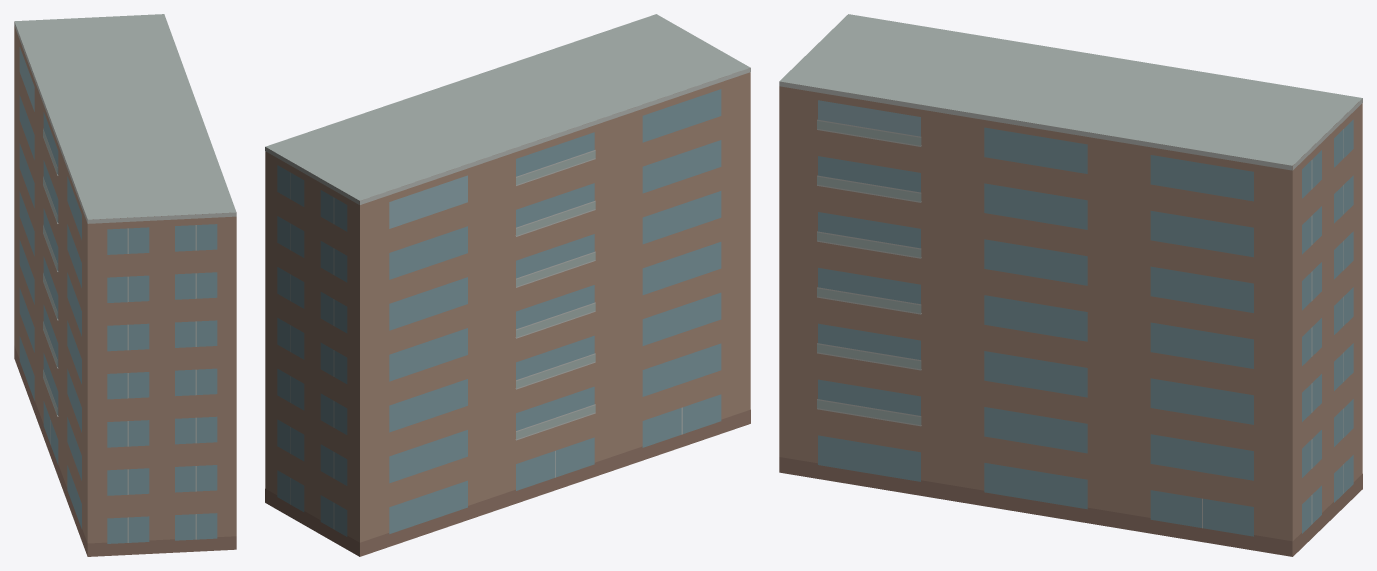
File: survey-upis-32874359.glb
The picture shows the model from 3 angles, left to right: view 1: azimuth 30°, elevation 25°; view 2: azimuth 150°, elevation 25°; view 3: azimuth 270°, elevation 25°; orthographic projection. The views are drawn at different scales.
Parts seen in each view (by area): view 1: survey-upis-32874359.tmp; view 2: survey-upis-32874359.tmp; view 3: survey-upis-32874359.tmp.
Part boxes in pixels (x1,y1,x2,y2): survey-upis-32874359.tmp: [14, 14, 236, 556]; survey-upis-32874359.tmp: [265, 14, 750, 556]; survey-upis-32874359.tmp: [779, 14, 1362, 556].
Bounding box in the file's own units: 16.49 × 19.8 × 26.78.
